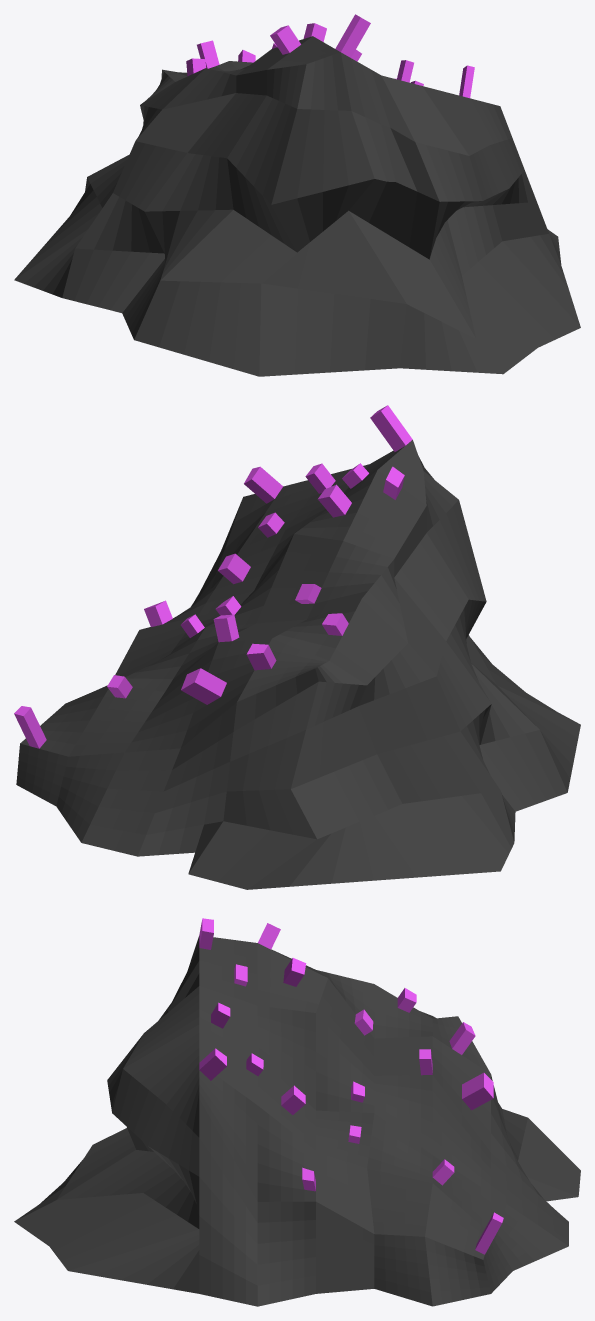
The model's file is stone.glb.
The picture shows the model from 3 angles, top to bottom: view 1: azimuth 30°, elevation 25°; view 2: azimuth 150°, elevation 25°; view 3: azimuth 270°, elevation 25°; orthographic projection. The views are drawn at different scales.
Parts seen in each view (by area): view 1: Cube; view 2: Cube; view 3: Cube.
Boxes of the visible parts, x1=… form: Cube: x1=14, y1=14, x2=580, y2=376; Cube: x1=14, y1=405, x2=580, y2=889; Cube: x1=14, y1=918, x2=580, y2=1306.
Size of the model in its own units: 3.43 by 2.14 by 3.89.
Materials: 1 (1 with a texture image).
